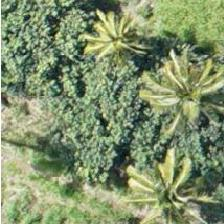coconut_tree: (136, 49, 223, 139), (69, 0, 159, 84), (122, 151, 212, 223)
